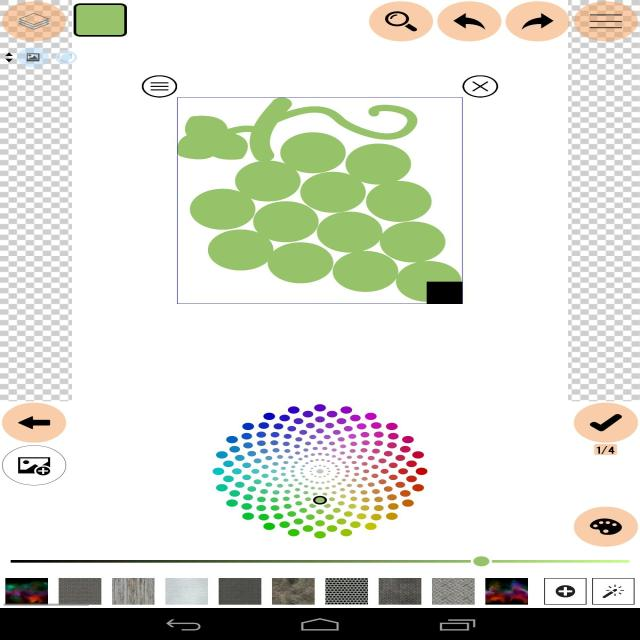button: (5, 550, 636, 570), (568, 401, 638, 455), (0, 444, 73, 490), (574, 506, 638, 550), (0, 400, 64, 442), (370, 2, 430, 44), (576, 2, 639, 42), (5, 2, 66, 42), (440, 3, 501, 42), (511, 1, 566, 44), (72, 1, 131, 38), (592, 576, 634, 606), (460, 72, 501, 100), (545, 579, 585, 605), (141, 72, 178, 98)
image: (176, 98, 463, 304), (202, 399, 436, 543), (484, 578, 530, 605), (218, 577, 260, 605), (5, 578, 48, 605), (324, 579, 370, 604), (112, 578, 154, 605), (272, 578, 315, 604), (60, 578, 101, 605), (433, 577, 474, 604), (167, 579, 207, 606), (380, 580, 419, 603)
